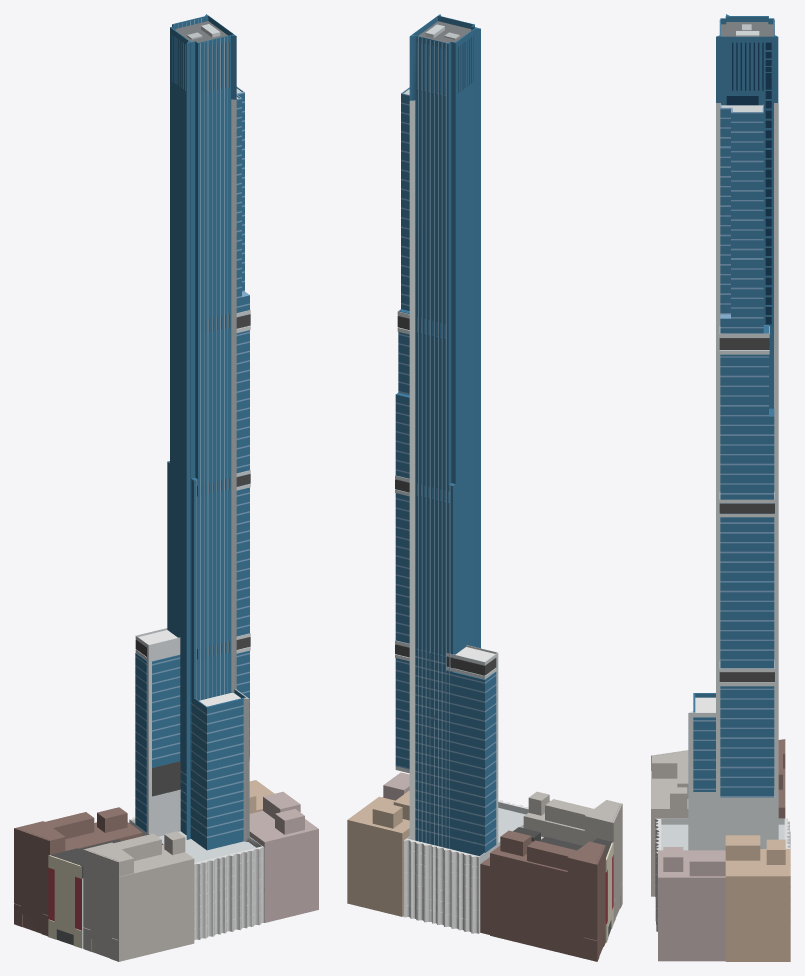
Rendered from central_park_tower.glb.
The picture shows the model from 3 angles, left to right: view 1: azimuth 30°, elevation 25°; view 2: azimuth 150°, elevation 25°; view 3: azimuth 270°, elevation 25°; orthographic projection. The views are drawn at different scales.
Visible parts, largest first — view 1: Object_12, Object_5, Object_8, Object_18, Object_3, Object_15, Object_6, Object_20, Object_9, Object_17, Object_2, Object_16 (+1 smaller); view 2: Object_12, Object_15, Object_18, Object_8, Object_7, Object_6, Object_5, Object_20, Object_2, Object_17; view 3: Object_12, Object_8, Object_7, Object_3, Object_2, Object_5, Object_11, Object_17, Object_6, Object_15, Object_14, Object_20 (+1 smaller).
Part boxes in pixels (left/top/right/bottom): Object_12: left=135, top=14, right=249, bottom=850; Object_5: left=83, top=831, right=194, bottom=961; Object_8: left=81, top=24, right=262, bottom=948; Object_18: left=174, top=18, right=227, bottom=700; Object_3: left=249, top=791, right=318, bottom=922; Object_15: left=14, top=807, right=142, bottom=936; Object_6: left=129, top=817, right=264, bottom=940; Object_20: left=135, top=655, right=243, bottom=837; Object_9: left=48, top=855, right=81, bottom=948; Object_17: left=50, top=314, right=250, bottom=878; Object_2: left=236, top=86, right=249, bottom=757; Object_16: left=201, top=41, right=228, bottom=658; Object_12: left=395, top=14, right=496, bottom=855; Object_15: left=480, top=830, right=605, bottom=961; Object_18: left=418, top=37, right=450, bottom=848; Object_8: left=395, top=24, right=543, bottom=932; Object_7: left=347, top=790, right=409, bottom=916; Object_6: left=403, top=800, right=528, bottom=933; Object_5: left=523, top=791, right=622, bottom=923; Object_20: left=415, top=656, right=496, bottom=845; Object_2: left=395, top=87, right=409, bottom=769; Object_17: left=395, top=316, right=612, bottom=856; Object_12: left=693, top=14, right=778, bottom=795; Object_8: left=661, top=31, right=784, bottom=850; Object_7: left=725, top=835, right=790, bottom=961; Object_3: left=658, top=847, right=725, bottom=961; Object_2: left=720, top=104, right=774, bottom=797; Object_5: left=651, top=750, right=688, bottom=896; Object_11: left=726, top=42, right=771, bottom=324; Object_17: left=719, top=338, right=774, bottom=682; Object_6: left=655, top=818, right=790, bottom=931; Object_15: left=778, top=739, right=785, bottom=818; Object_14: left=721, top=22, right=773, bottom=36; Object_20: left=693, top=720, right=715, bottom=789.
Bounding box in the file's own units: 27 × 92.4 × 12.9.
